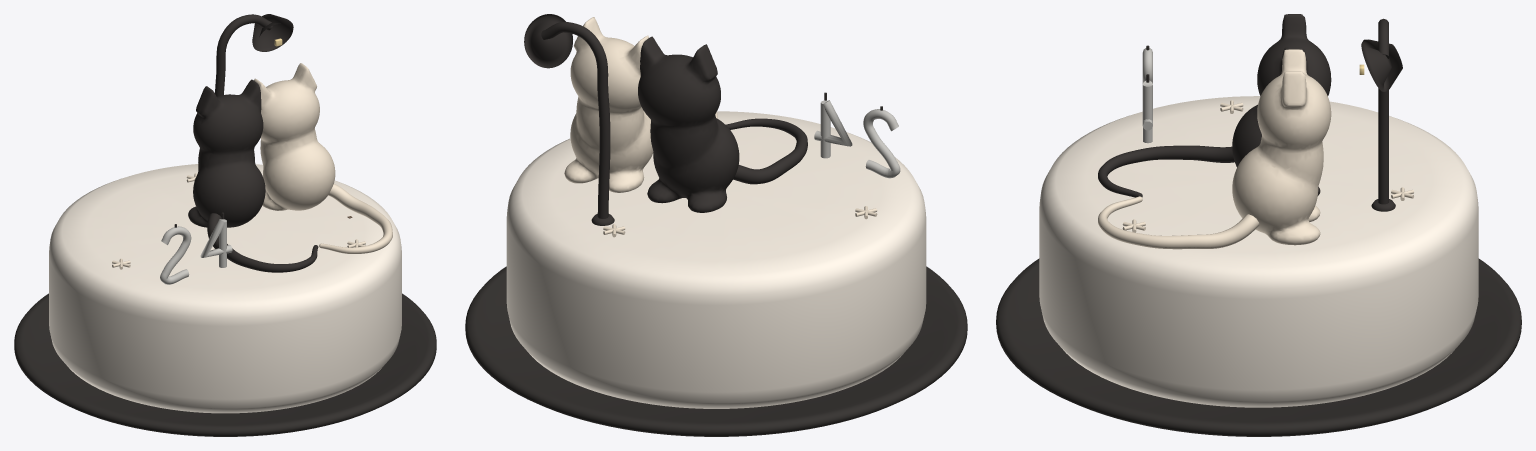
File: cake-24.7b285cc67e0c-2E_A94A6.glb
3 renders of one model, left to right at view 1: azimuth 30°, elevation 25°; view 2: azimuth 150°, elevation 25°; view 3: azimuth 270°, elevation 25°, orthographic. The views are drawn at different scales.
Visible parts, largest first — view 1: Clay_batch_MAT24_cream_clay_quantized, Clay_batch_MAT24_satin_black_tray_quantized, Clay_batch_MAT24_warm_white_sugar_quantized, Clay_batch_MAT24_soft_black_chocolate_quantized, Clay_batch_MAT24_matte_lamp_quantized, Clay_batch_MAT24_silver_candles_quantized; view 2: Clay_batch_MAT24_cream_clay_quantized, Clay_batch_MAT24_satin_black_tray_quantized, Clay_batch_MAT24_soft_black_chocolate_quantized, Clay_batch_MAT24_warm_white_sugar_quantized, Clay_batch_MAT24_matte_lamp_quantized, Clay_batch_MAT24_silver_candles_quantized; view 3: Clay_batch_MAT24_cream_clay_quantized, Clay_batch_MAT24_satin_black_tray_quantized, Clay_batch_MAT24_warm_white_sugar_quantized, Clay_batch_MAT24_soft_black_chocolate_quantized, Clay_batch_MAT24_matte_lamp_quantized, Clay_batch_MAT24_silver_candles_quantized.
Part boxes in pixels (x1,y1,x2,y2): Clay_batch_MAT24_cream_clay_quantized: (49, 164, 401, 413); Clay_batch_MAT24_satin_black_tray_quantized: (14, 293, 436, 436); Clay_batch_MAT24_warm_white_sugar_quantized: (112, 63, 392, 269); Clay_batch_MAT24_soft_black_chocolate_quantized: (188, 79, 318, 272); Clay_batch_MAT24_matte_lamp_quantized: (174, 14, 293, 227); Clay_batch_MAT24_silver_candles_quantized: (160, 219, 232, 284); Clay_batch_MAT24_cream_clay_quantized: (506, 111, 926, 408); Clay_batch_MAT24_satin_black_tray_quantized: (465, 266, 967, 436); Clay_batch_MAT24_soft_black_chocolate_quantized: (638, 36, 807, 212); Clay_batch_MAT24_warm_white_sugar_quantized: (564, 17, 877, 237); Clay_batch_MAT24_matte_lamp_quantized: (524, 14, 882, 225); Clay_batch_MAT24_silver_candles_quantized: (814, 100, 900, 178); Clay_batch_MAT24_cream_clay_quantized: (1039, 96, 1478, 407); Clay_batch_MAT24_satin_black_tray_quantized: (996, 258, 1521, 436); Clay_batch_MAT24_warm_white_sugar_quantized: (1098, 49, 1413, 249); Clay_batch_MAT24_soft_black_chocolate_quantized: (1098, 14, 1331, 197); Clay_batch_MAT24_matte_lamp_quantized: (1146, 18, 1402, 211); Clay_batch_MAT24_silver_candles_quantized: (1142, 48, 1152, 143).
Bounding box in the file's own units: 0.194 × 0.1432 × 0.194.
